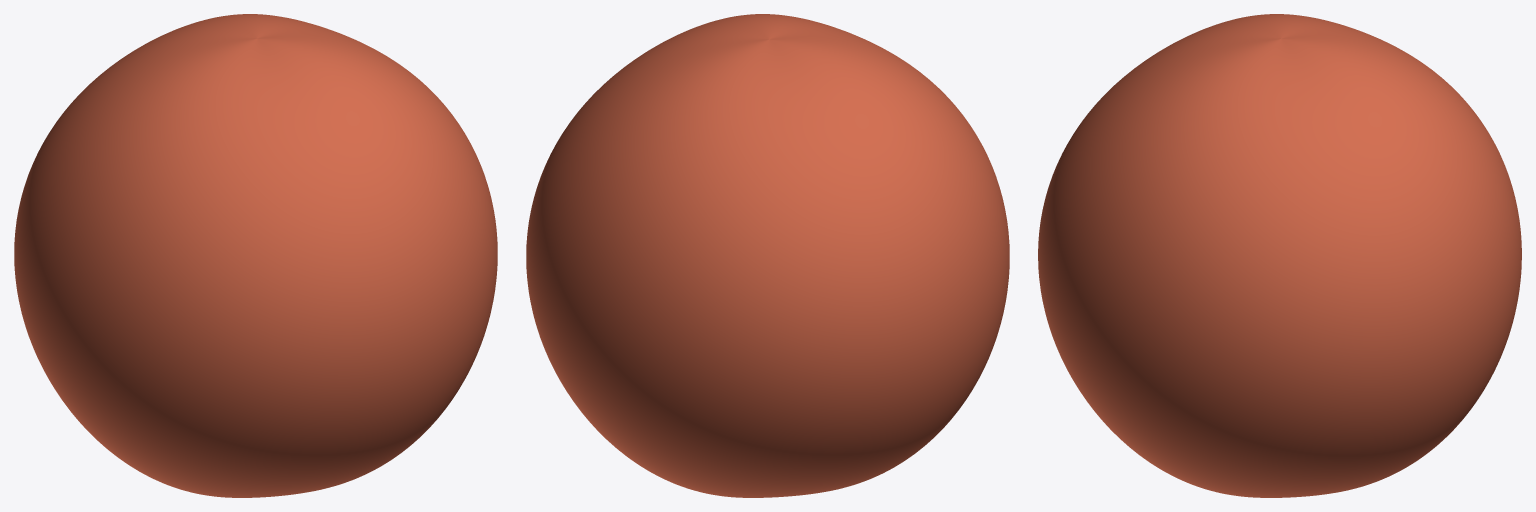
File: moti.glb
The picture shows the model from 3 angles, left to right: view 1: azimuth 30°, elevation 25°; view 2: azimuth 150°, elevation 25°; view 3: azimuth 270°, elevation 25°; orthographic projection.
Parts seen in each view (by area): view 1: stone; view 2: stone; view 3: stone.
Boxes of the visible parts, box(x1,y1,x2,y2) form: stone: box(14, 14, 497, 497); stone: box(526, 14, 1009, 497); stone: box(1038, 14, 1521, 497).
Size of the model in its own units: 0.85 by 0.8505 by 0.8502.
